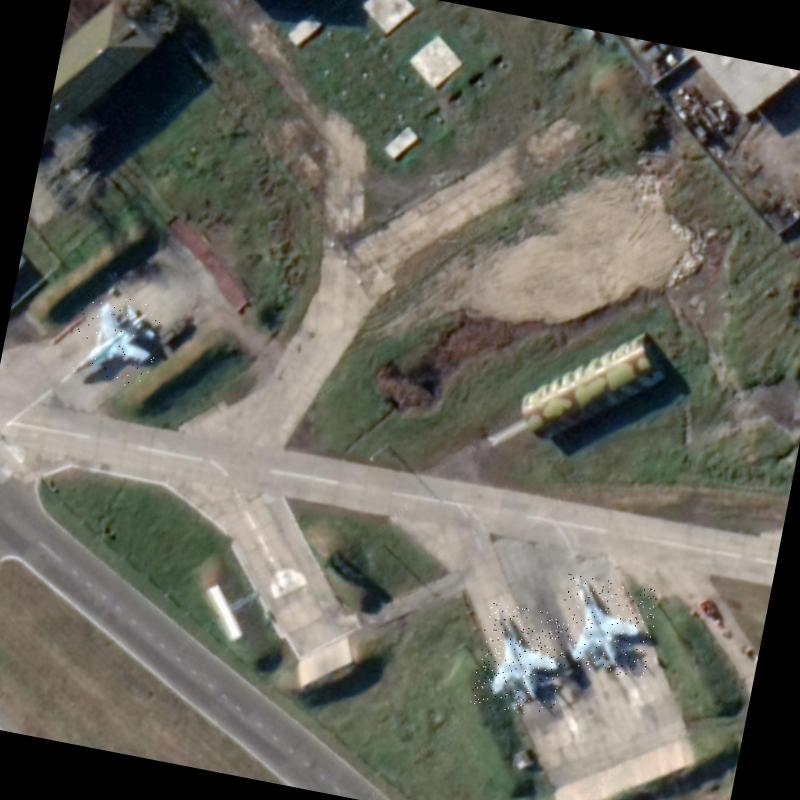A1: (470, 601, 572, 720), (550, 572, 660, 682), (67, 290, 165, 390)
